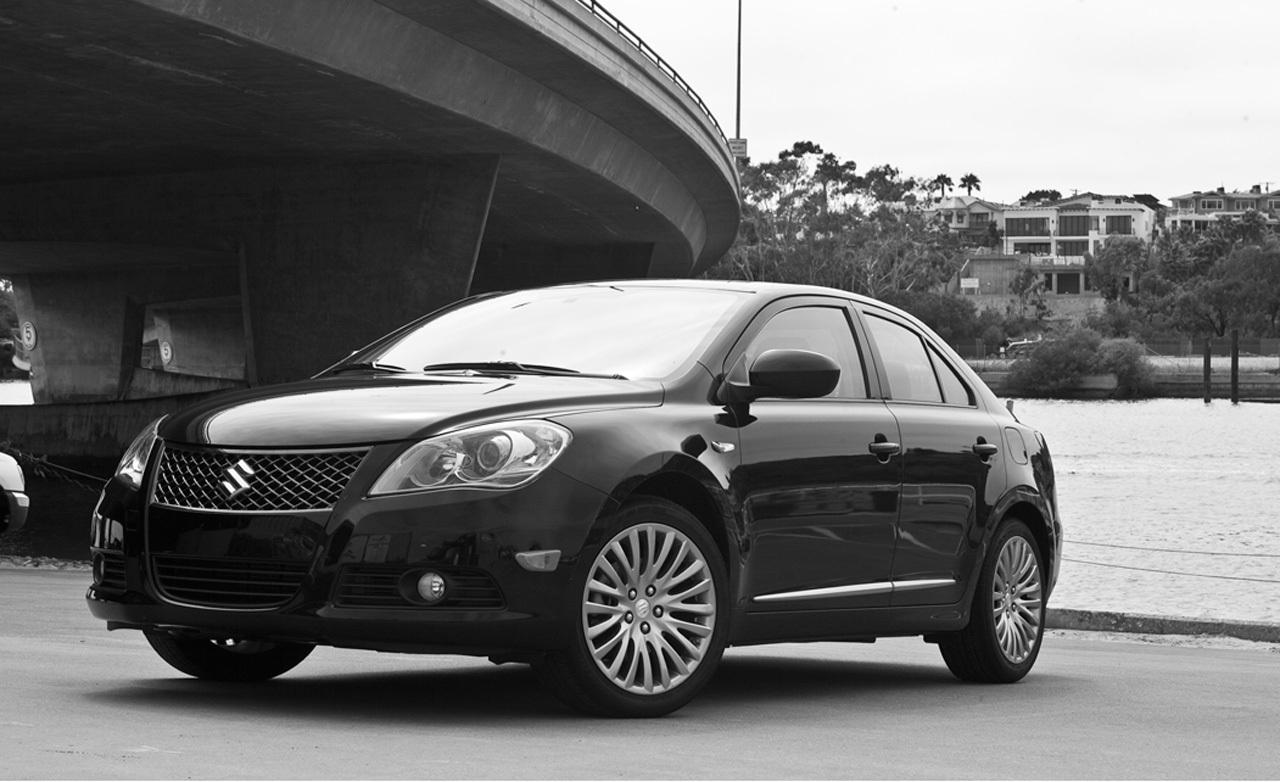car: (83, 275, 1068, 715)
